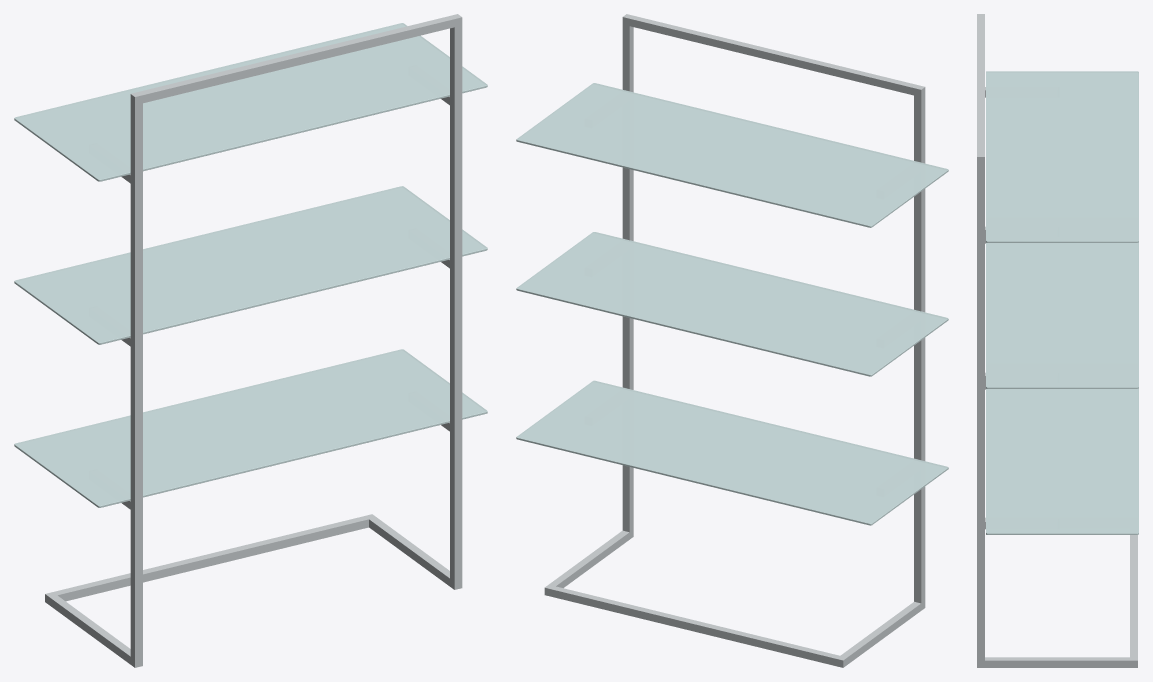
File: glass_shelves.glb
3 renders of one model, left to right at view 1: azimuth 30°, elevation 25°; view 2: azimuth 150°, elevation 25°; view 3: azimuth 270°, elevation 25°, orthographic. The views are drawn at different scales.
Visible parts, largest first — view 1: Object_3, Object_4; view 2: Object_3, Object_4; view 3: Object_3, Object_4.
Part boxes in pixels (x1,y1,x2,y2): Object_3: (14,23,487,507); Object_4: (45,14,462,667); Object_3: (516,83,948,525); Object_4: (544,14,925,667); Object_3: (986,71,1138,534); Object_4: (977,14,1137,667).
Size of the model in its own units: 1 by 1.4 by 0.402.
3 materials, 3 textured.
